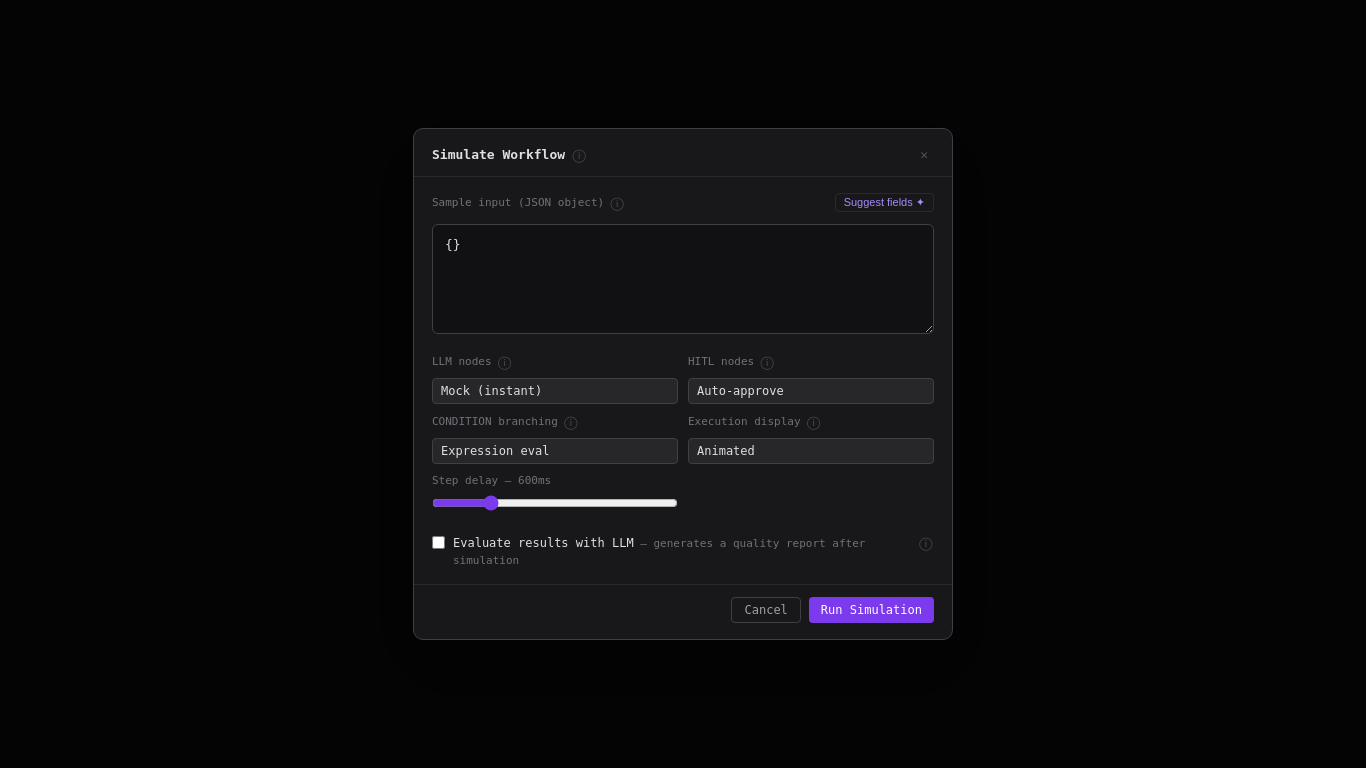
Test: SimulateModal — submission › shows fallback server error when no detail in response
The width and height of the screenshot is (1366, 768).
Click the button "Run Simulation".
click(871, 610)  # box [809,597,934,623]
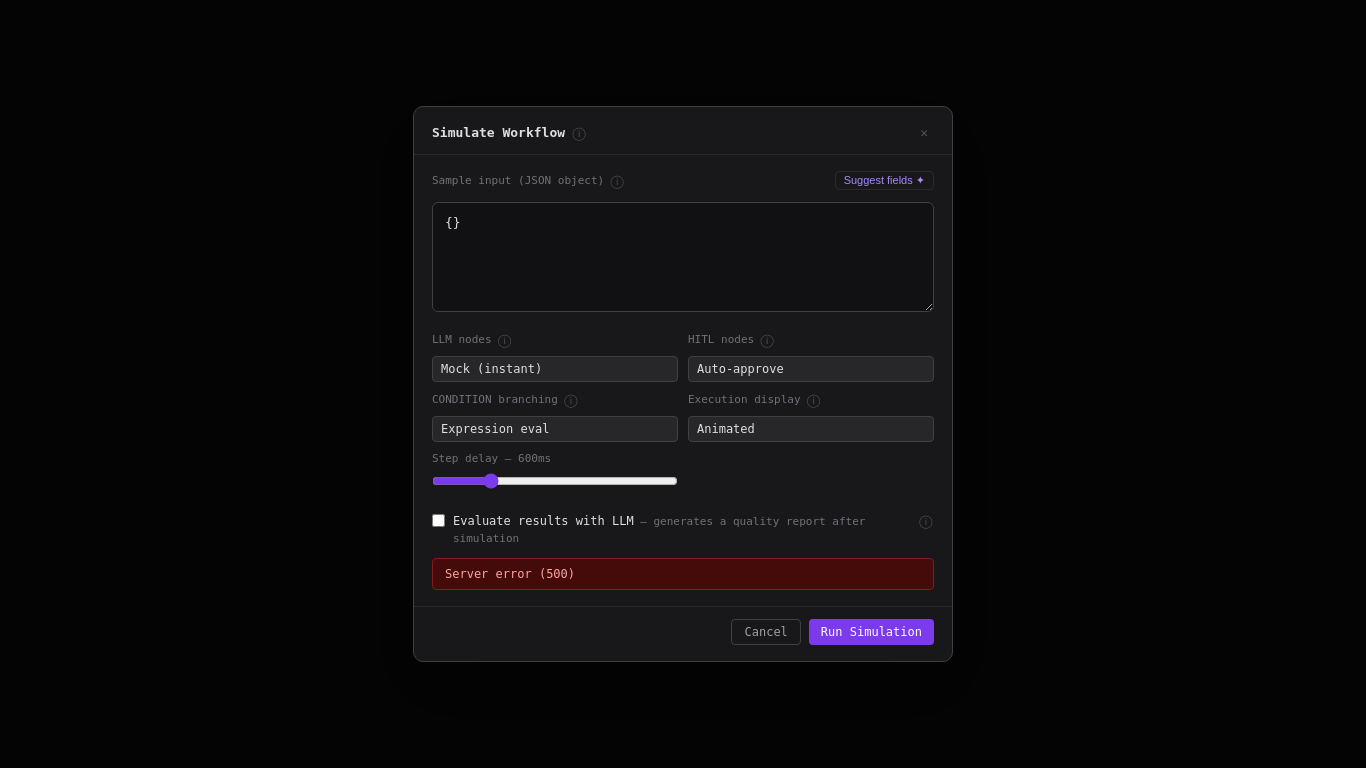
Expected: the text "Server error (500)" is shown, [432,558,934,590]
